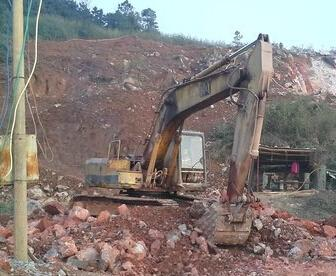excavator: (72, 31, 281, 255)
